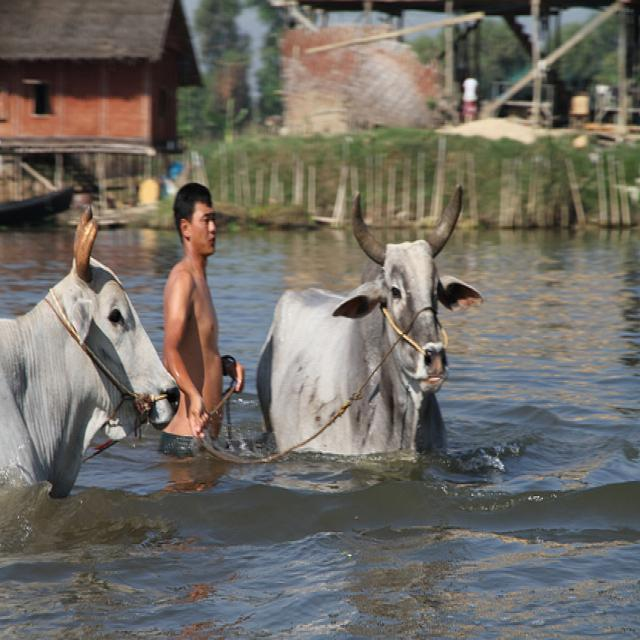cow: (254, 182, 484, 452), (0, 211, 184, 496)
